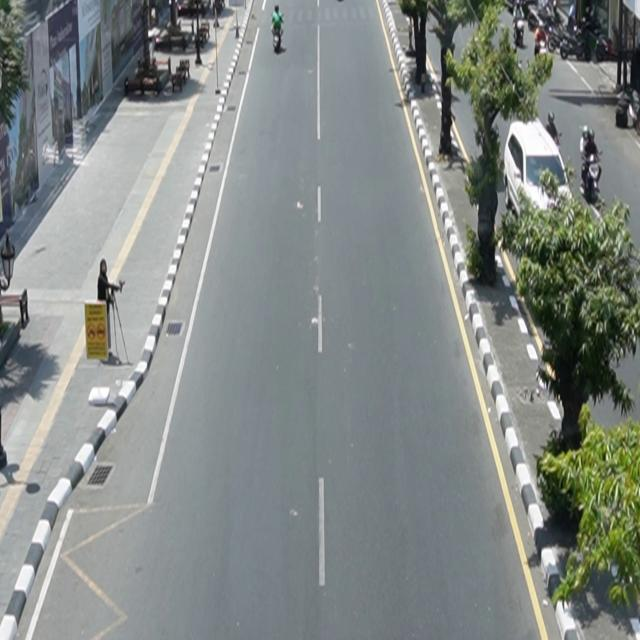car: (504, 117, 573, 225)
